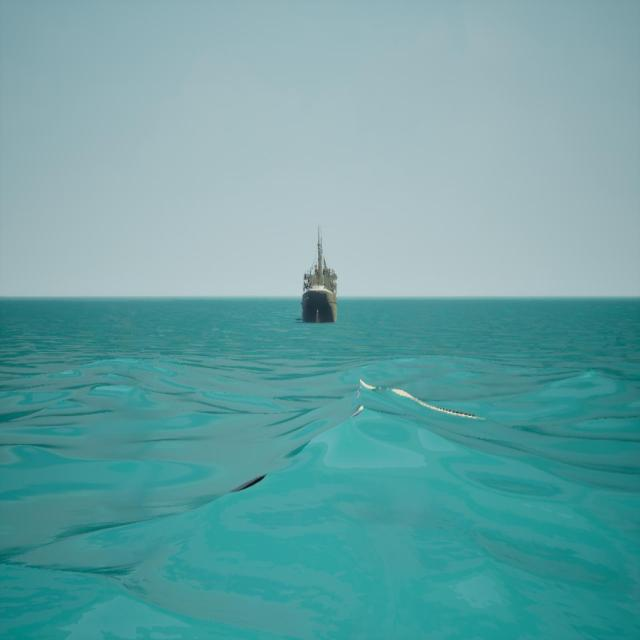fishing ship: (300, 226, 338, 326)
